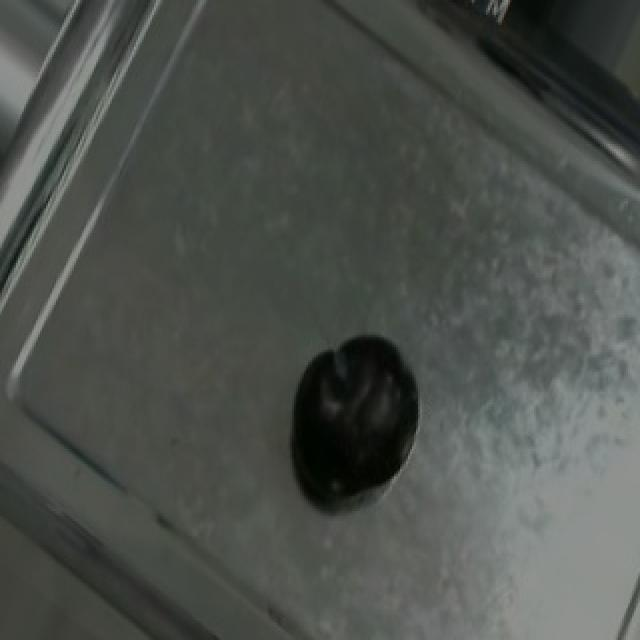Fruit: (272, 312, 428, 514)
